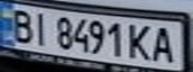1: (103, 19, 127, 57)
4: (69, 16, 90, 53)
8: (51, 13, 75, 51)
9: (87, 18, 109, 55)
A: (148, 24, 181, 64)
B: (3, 7, 36, 44)
I: (27, 10, 54, 46)
K: (124, 20, 154, 61)
